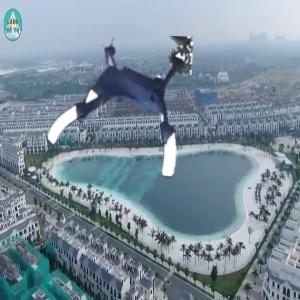drone: (47, 34, 193, 180)
